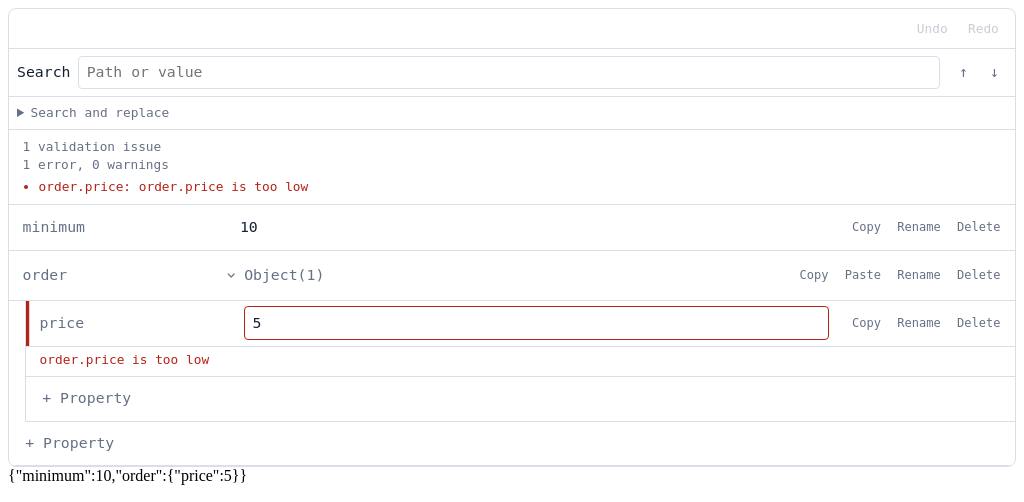
Scenario: ObjectEditor › validates nested fields with root and path context
Expected: the message reads "order.price is too low", [40,352,209,367]
Replace the text in the number field named "order.price" with "12" at (537, 323), box [244,306,830,340]
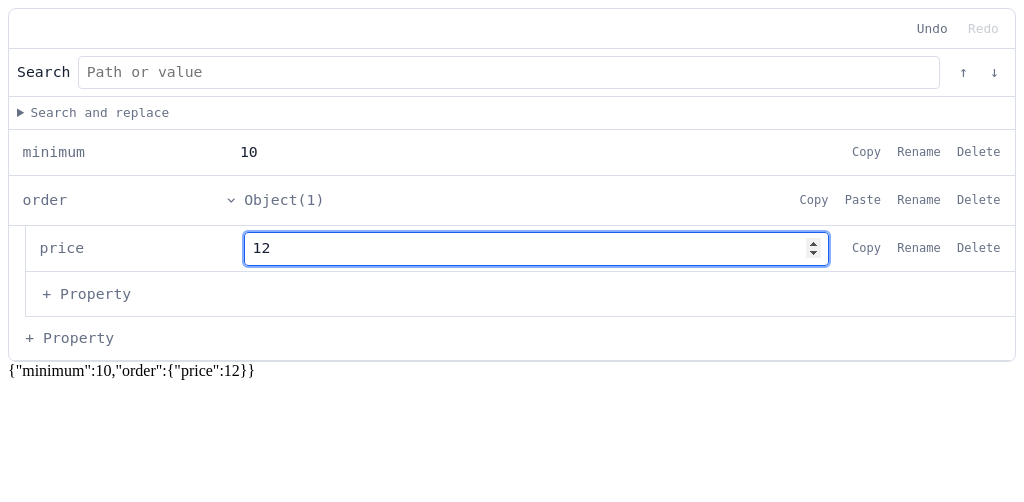
Now the message "order.price is too low" is gone
